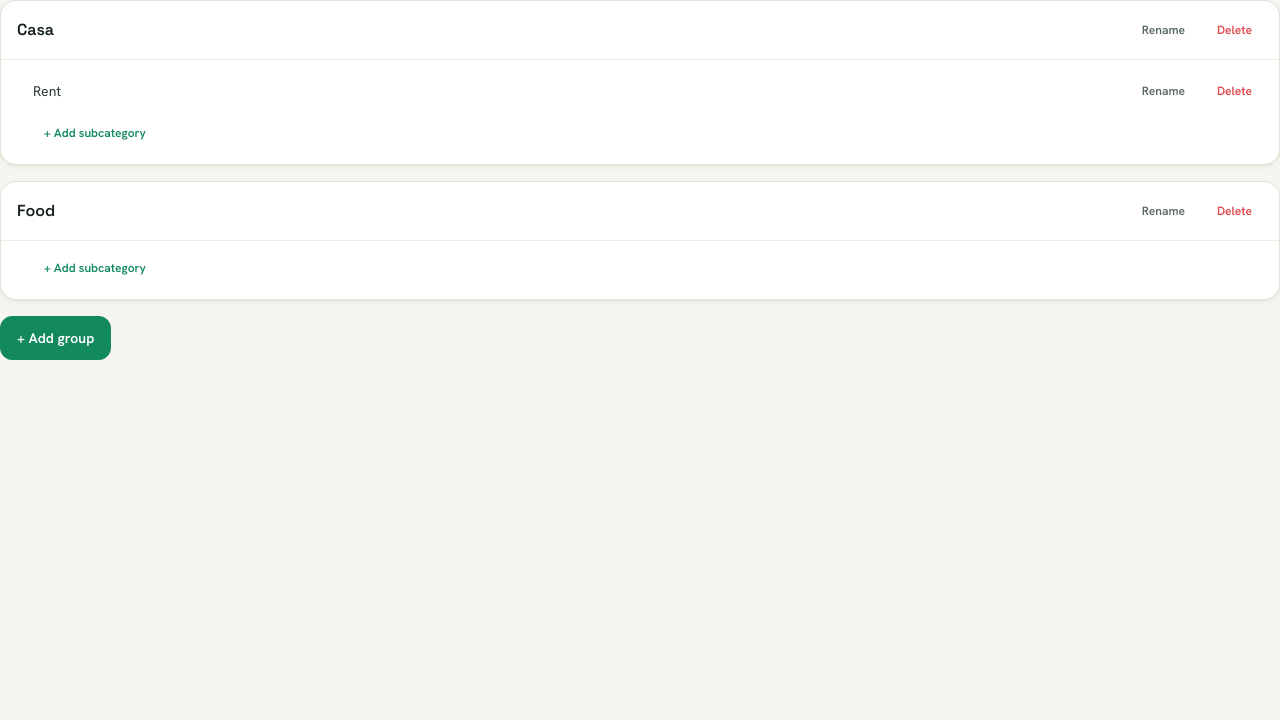
Test: CategoriesManager — group deletion › TC-06-11: Cancel on modal closes dialog
This screenshot has width=1280, height=720.
Click the button "Delete" in the row of "Casa": (1234, 30) [1206,15,1263,45]
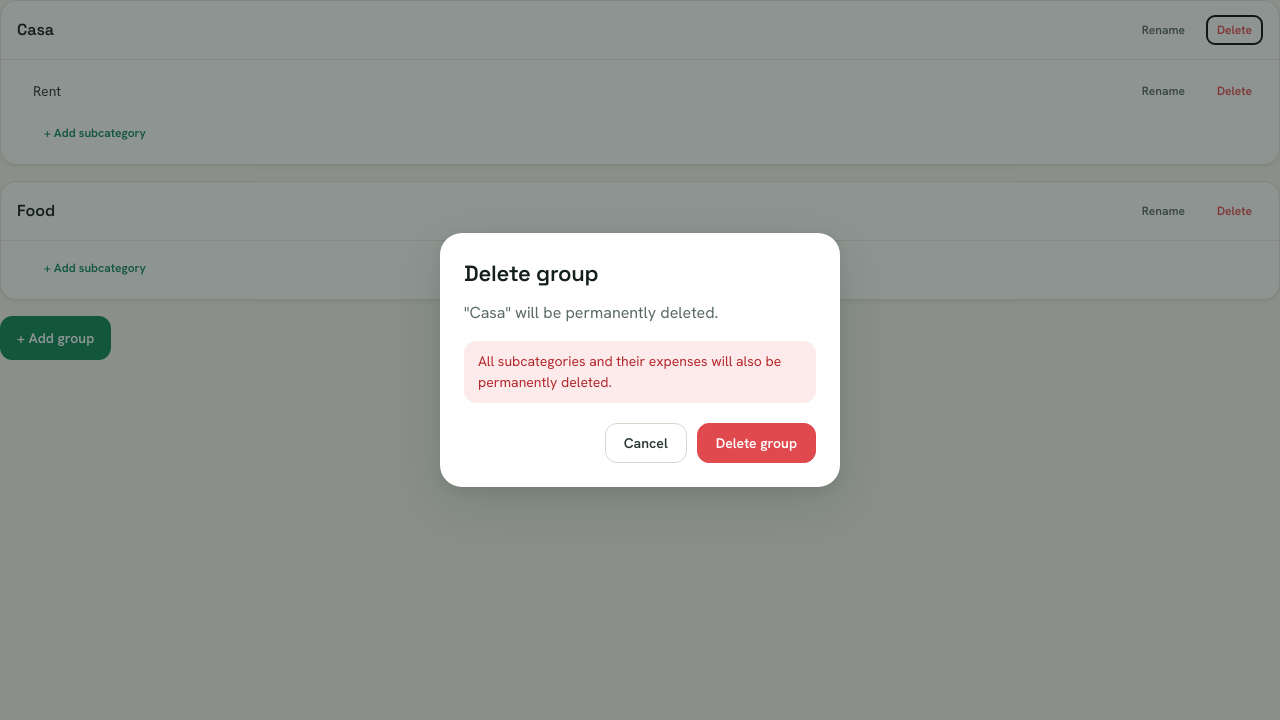
Check: the dialog is shown
Click the button "Cancel": (646, 443) [605,423,687,463]
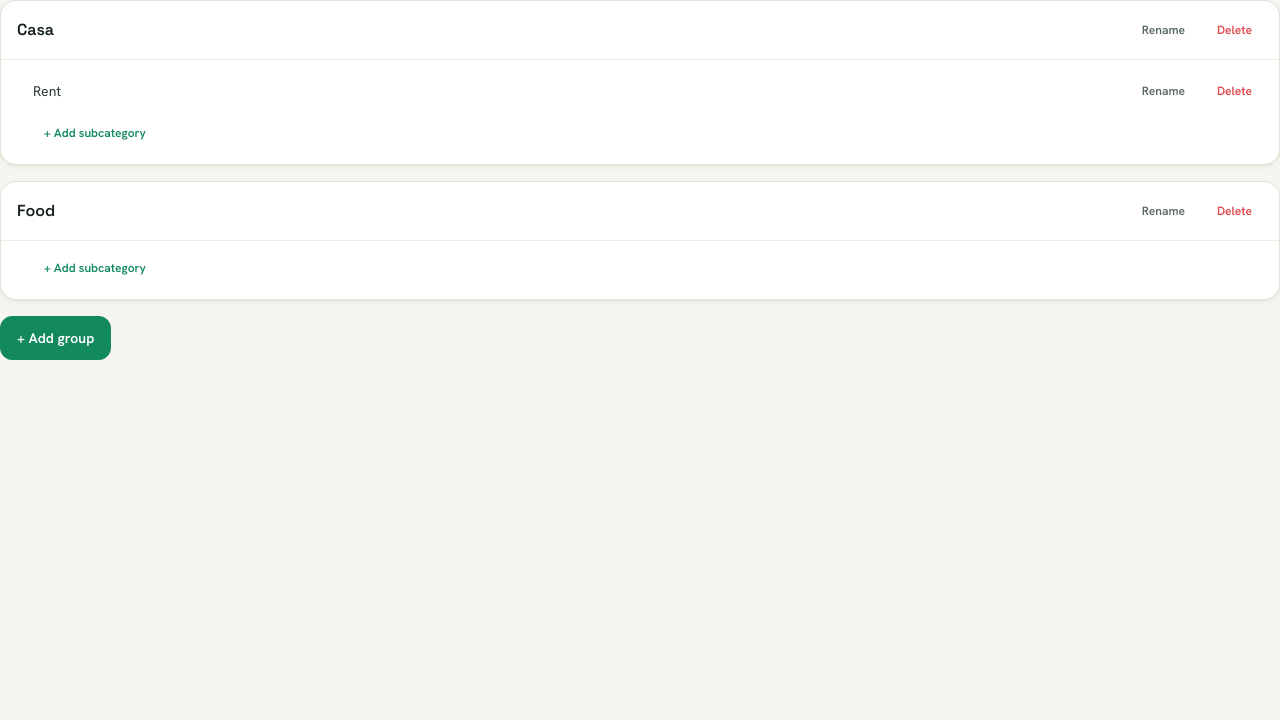
Check: the dialog is gone
